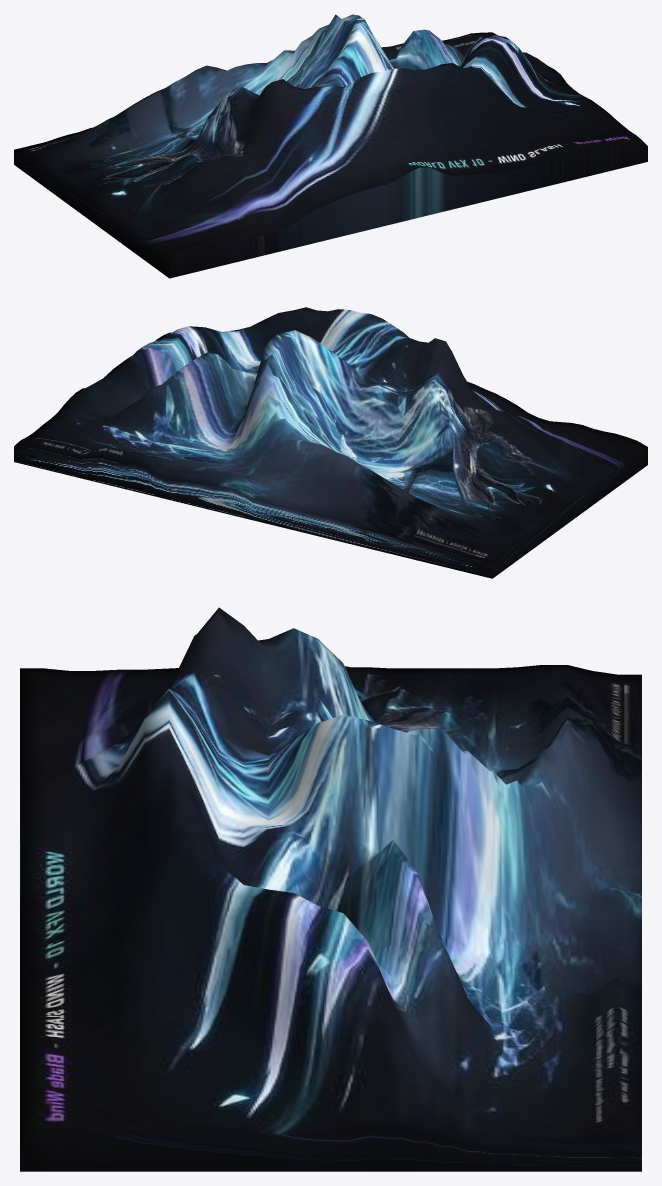
File: WORLD_VFX_10_Wind_Slash.glb
3 views of the same model, one above another, from view 1: azimuth 30°, elevation 25°; view 2: azimuth 150°, elevation 25°; view 3: azimuth 270°, elevation 25° (orthographic). The views are drawn at different scales.
Visible parts, largest first — view 1: WORLD_VFX_10_Wind_Slash; view 2: WORLD_VFX_10_Wind_Slash; view 3: WORLD_VFX_10_Wind_Slash.
Part boxes in pixels (box(x1,y1,x2,y2)): WORLD_VFX_10_Wind_Slash: box(14, 14, 647, 278); WORLD_VFX_10_Wind_Slash: box(14, 307, 647, 578); WORLD_VFX_10_Wind_Slash: box(20, 607, 641, 1171).
Size of the model in its own units: 2 by 0.51 by 1.13.
1 material, 1 textured.
